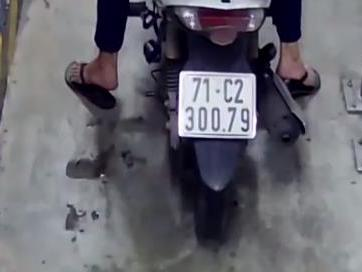num_plate: (178, 71, 256, 138)
